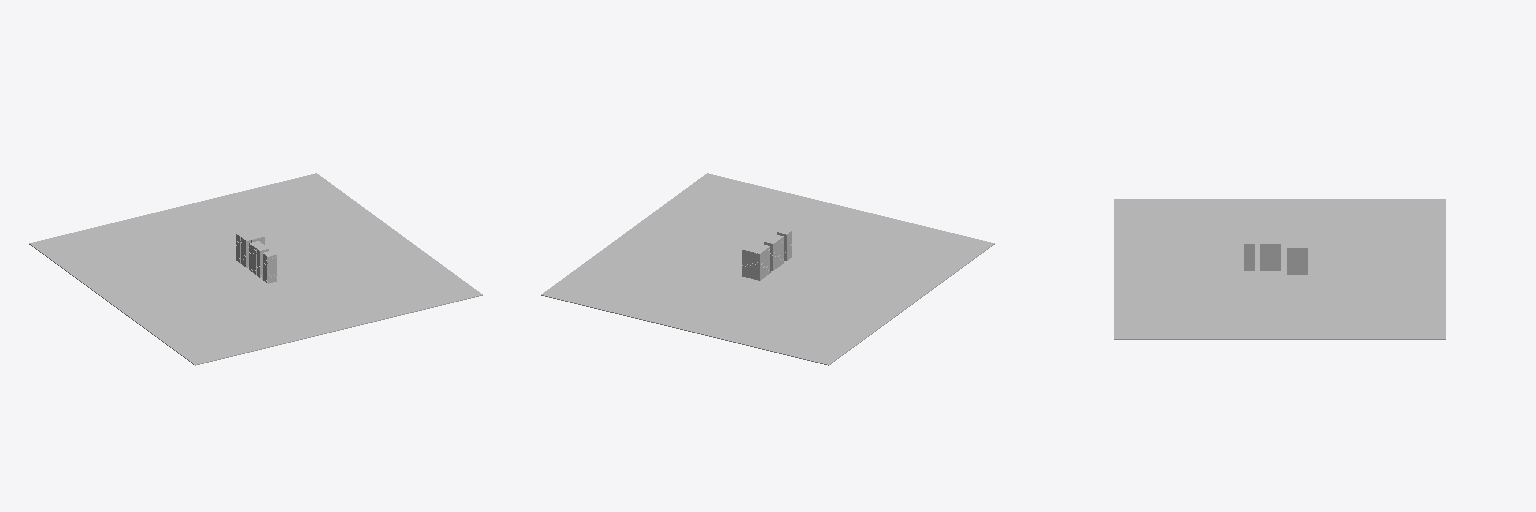
The model's file is building3.obj.
The picture shows the model from 3 angles: view 1: azimuth 30°, elevation 25°; view 2: azimuth 150°, elevation 25°; view 3: azimuth 270°, elevation 25°; orthographic projection.
Visible parts, largest first — view 1: __6485_; view 2: __6485_; view 3: __6485_, __4106_.
Part boxes in pixels (x1,y1,x2,y2): __6485_: (29, 173, 482, 365); __6485_: (541, 173, 994, 365); __6485_: (1114, 199, 1445, 339); __4106_: (1260, 244, 1307, 274).
Size of the model in its own units: 16031 by 1472 by 16031.